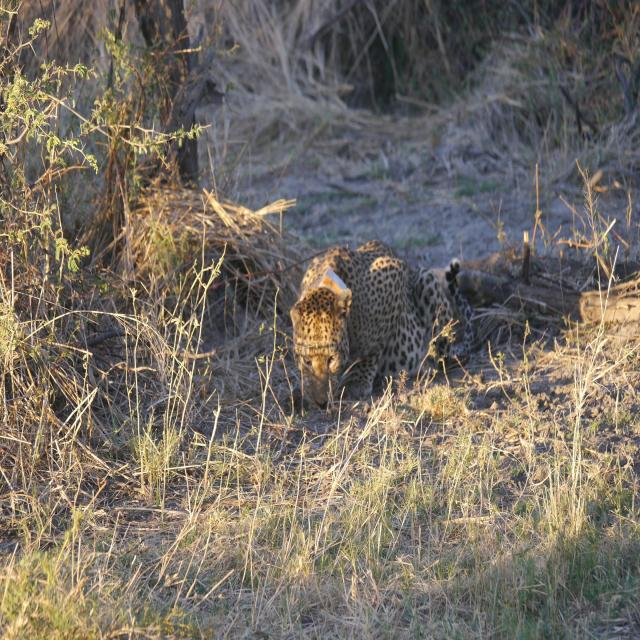Leopard: (284, 236, 468, 412)
